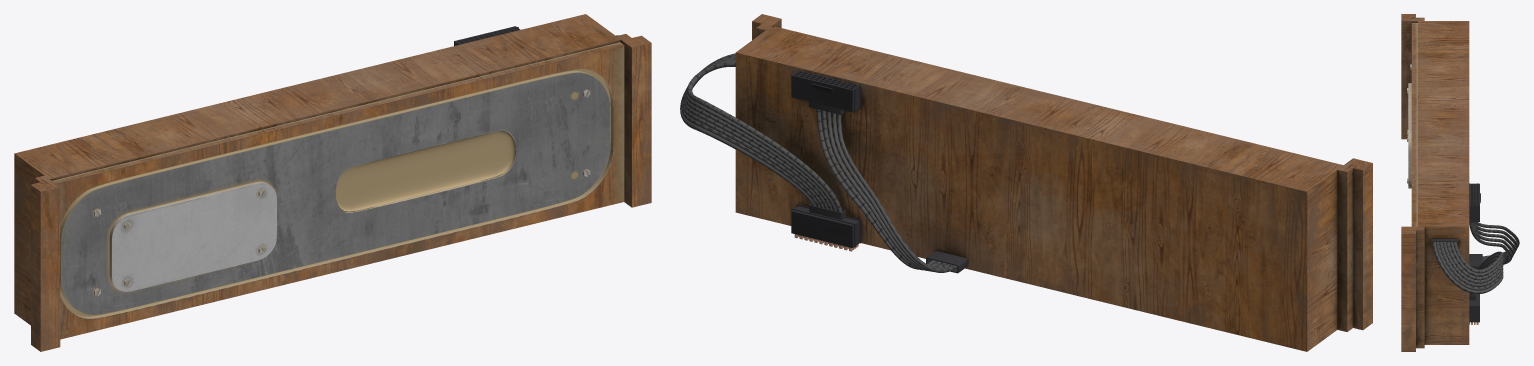
File: Panel_4.fbx
3 renders of one model, left to right at view 1: azimuth 30°, elevation 25°; view 2: azimuth 150°, elevation 25°; view 3: azimuth 270°, elevation 25°, orthographic. The views are drawn at different scales.
Visible parts, largest first — view 1: Cube.028; view 2: Cube.028; view 3: Cube.028.
Boxes of the visible parts, x1,y1,x2,y2 form: Cube.028: [14, 14, 651, 351]; Cube.028: [680, 14, 1372, 351]; Cube.028: [1401, 14, 1519, 351].
Bounding box in the file's own units: 41.03 × 10 × 8.8.
Materials: 1 (1 with a texture image).
